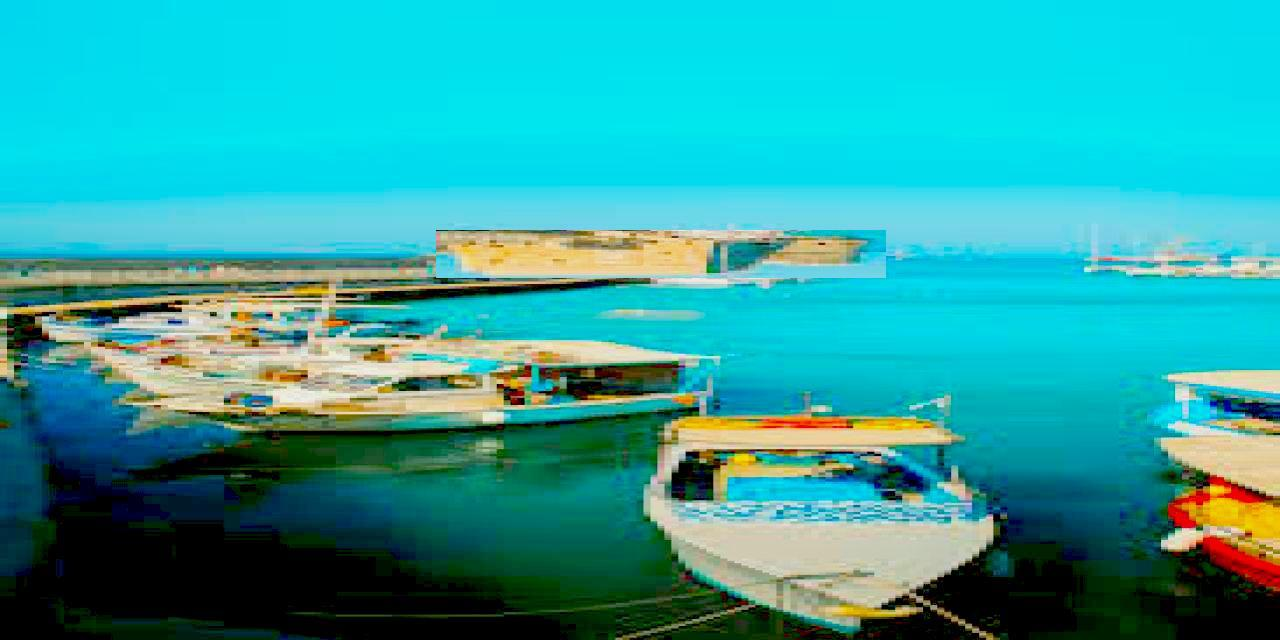Kules: (437, 231, 887, 279)
